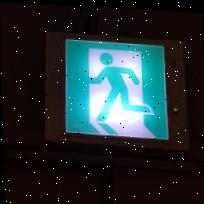emergency_exit: (63, 37, 171, 143)
